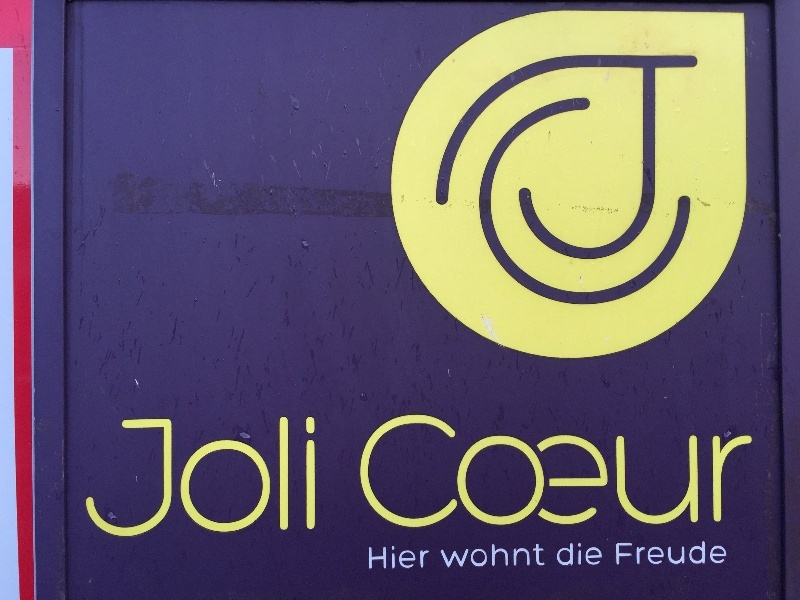text: (449, 54, 464, 313), (465, 54, 480, 313), (481, 54, 496, 313), (497, 54, 512, 313), (513, 54, 528, 313), (529, 54, 544, 313), (545, 54, 560, 313), (561, 54, 576, 313), (577, 54, 592, 313), (593, 54, 608, 313), (609, 54, 624, 313), (625, 54, 640, 313), (641, 54, 656, 313), (657, 54, 672, 313), (673, 54, 688, 313), (689, 54, 701, 313), (97, 416, 112, 541), (113, 416, 128, 541), (129, 416, 144, 541), (145, 416, 160, 541), (161, 416, 176, 541), (177, 416, 192, 541), (193, 416, 208, 541), (209, 416, 224, 541), (225, 416, 240, 541), (241, 416, 256, 541), (257, 416, 272, 541), (273, 416, 288, 541), (289, 416, 304, 541), (369, 413, 384, 531), (385, 413, 400, 531), (401, 413, 416, 531), (417, 413, 432, 531), (433, 413, 448, 531), (449, 413, 464, 531), (465, 413, 480, 531), (481, 413, 496, 531), (497, 413, 512, 531), (513, 413, 528, 531), (529, 413, 544, 531), (545, 413, 560, 531), (561, 413, 576, 531), (577, 413, 592, 531), (593, 413, 608, 531), (609, 413, 624, 531), (625, 413, 640, 531), (641, 413, 656, 531), (657, 413, 672, 531), (673, 413, 688, 531), (689, 413, 704, 531), (705, 413, 720, 531), (721, 413, 736, 531), (737, 413, 752, 531), (355, 413, 368, 531), (305, 416, 316, 541), (91, 416, 96, 541), (449, 540, 464, 570), (465, 540, 480, 570), (481, 540, 496, 570), (497, 540, 512, 570), (513, 540, 528, 570), (529, 540, 544, 570), (561, 540, 576, 568), (577, 540, 592, 568), (369, 547, 384, 572), (385, 547, 400, 572), (401, 547, 416, 572), (625, 542, 640, 567), (641, 542, 656, 567), (657, 542, 672, 567), (673, 542, 688, 567), (689, 542, 704, 567), (705, 542, 720, 567), (753, 413, 756, 531), (417, 547, 430, 572), (439, 540, 448, 570), (447, 54, 448, 313), (593, 540, 602, 568), (616, 542, 624, 567), (721, 542, 727, 567), (557, 540, 560, 568), (545, 540, 546, 570)
